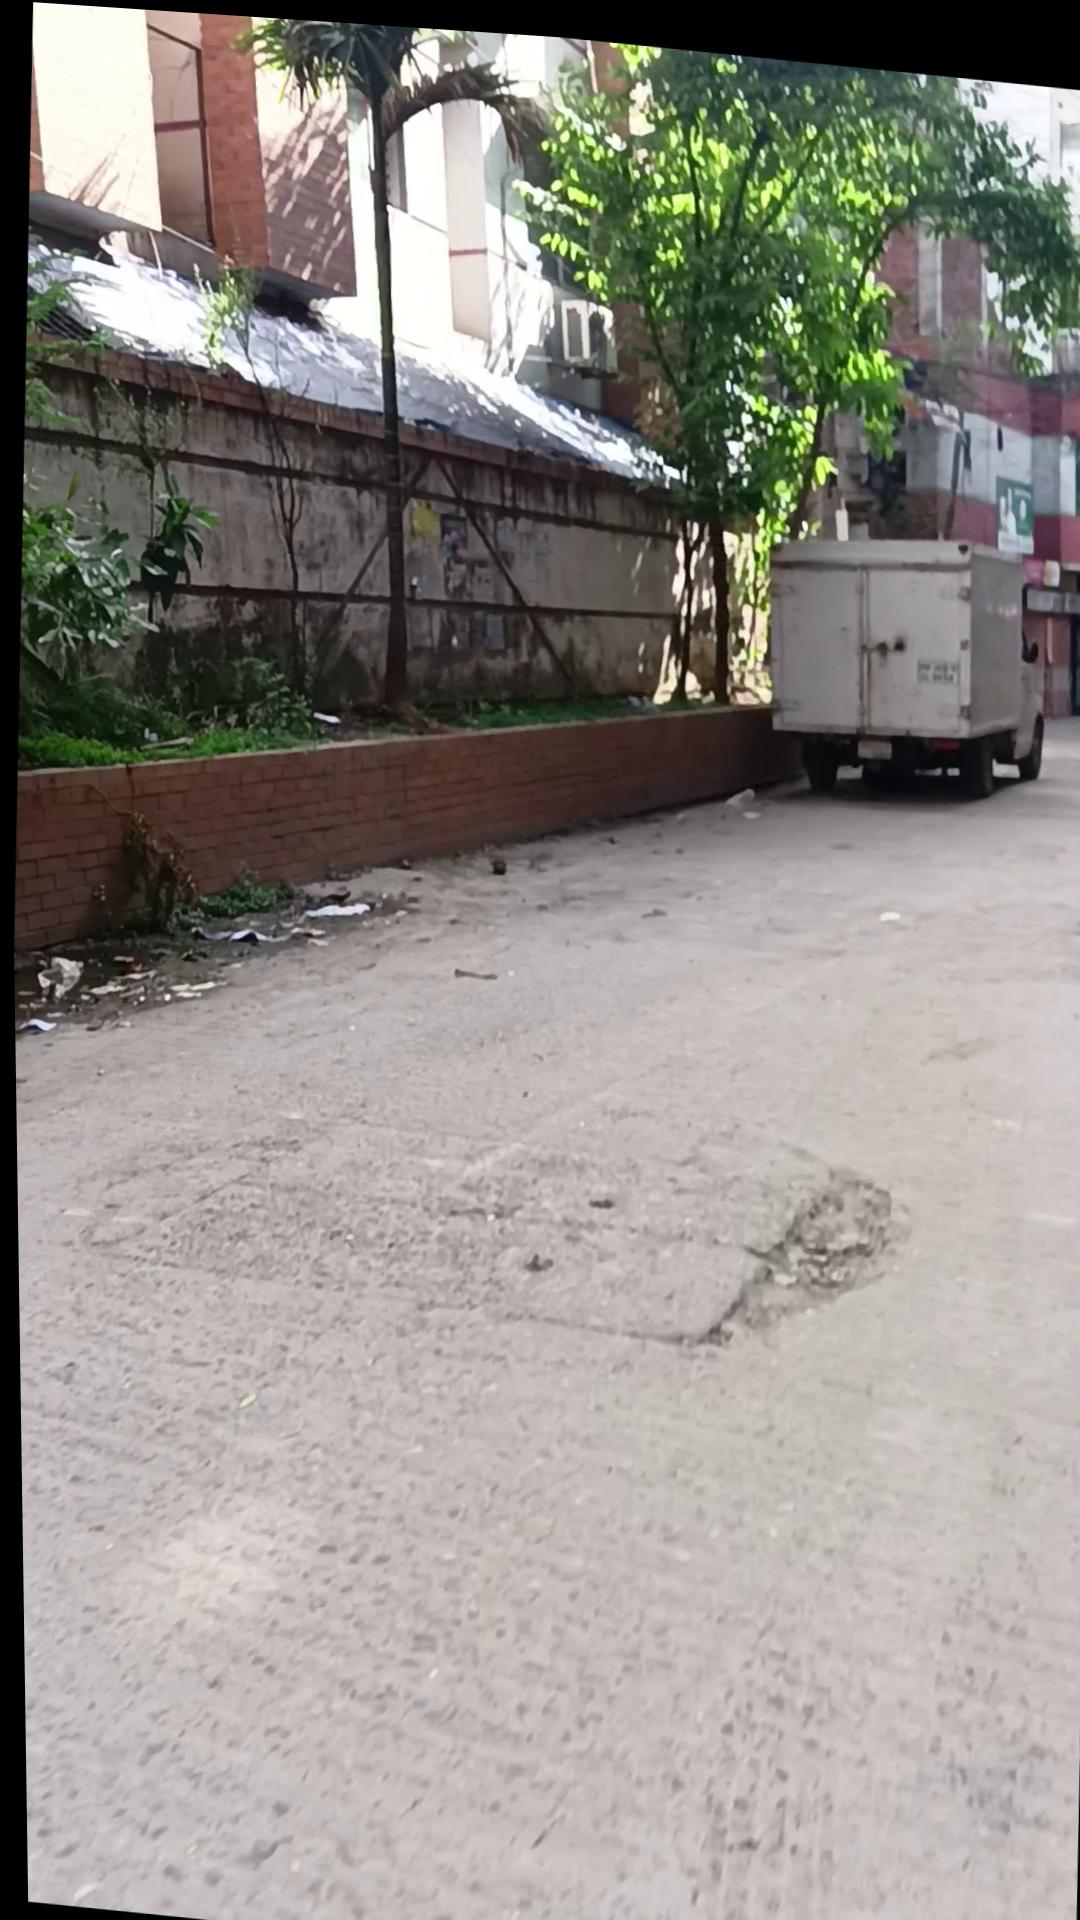Broken-road: (7, 607, 1080, 1920)
Traffic-sign: (756, 487, 1052, 802)
Tree: (8, 618, 807, 1023)
